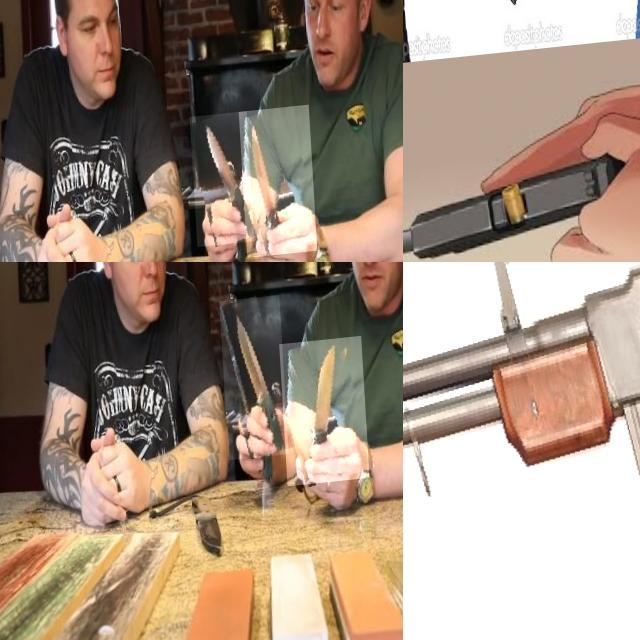-: (276, 346, 364, 494), (234, 114, 312, 262), (216, 303, 284, 467), (186, 120, 249, 254)
gun-knife-thesis - v11 Yolov5 augmented: (403, 262, 640, 640), (403, 149, 633, 262), (486, 0, 584, 70), (403, 181, 430, 238), (403, 0, 437, 38)
